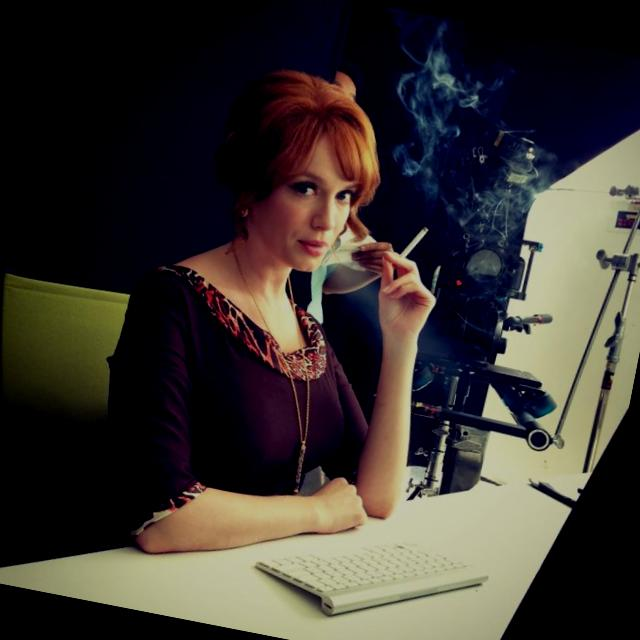smoke: (398, 223, 434, 255)
